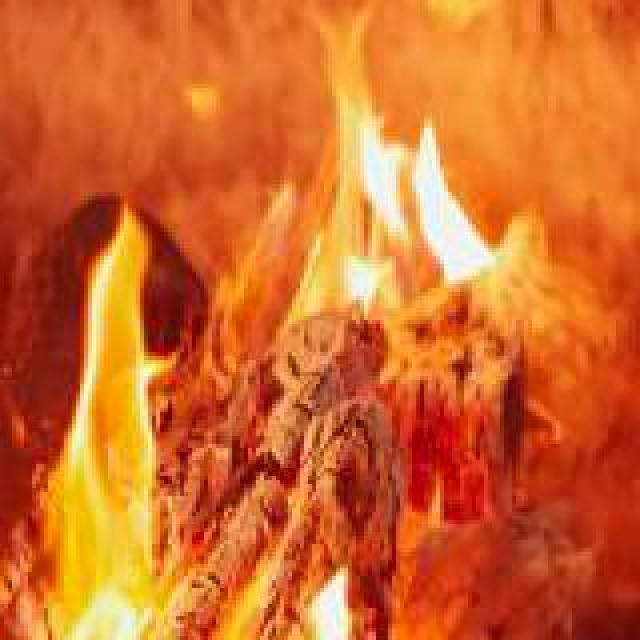fire: (0, 144, 200, 640), (280, 0, 496, 404)
